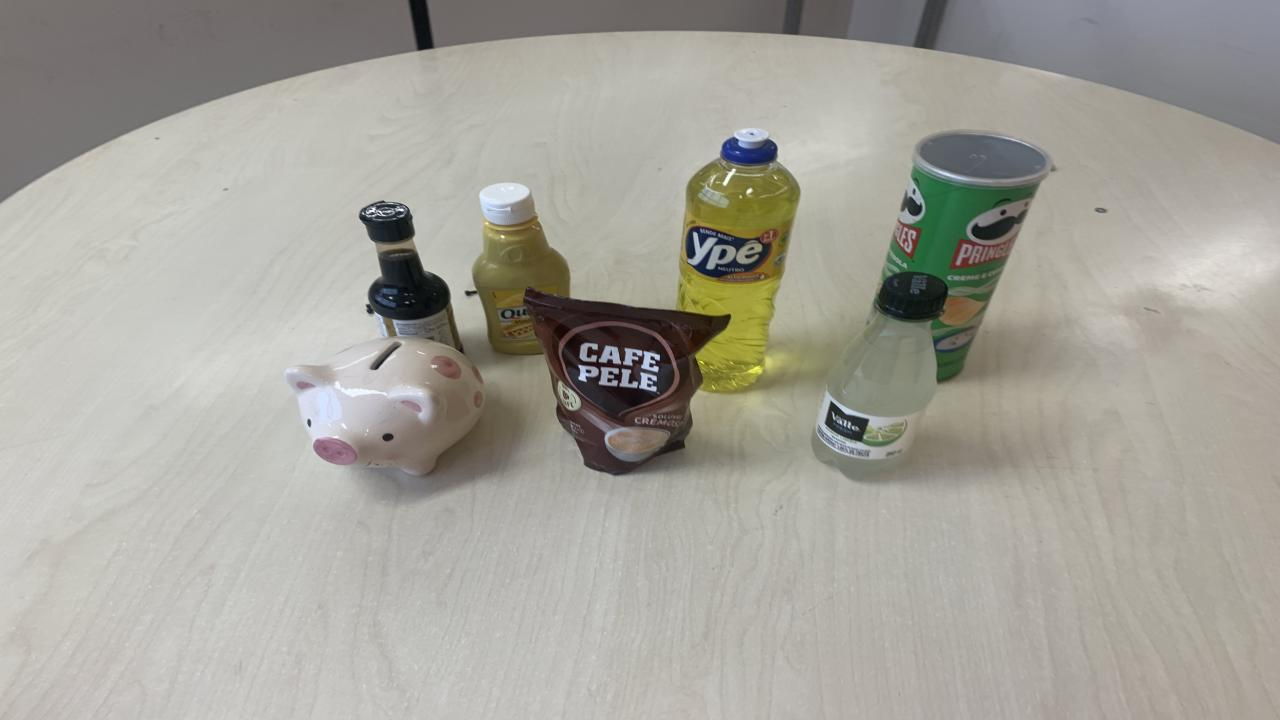Coffee-Pantry_Items: (525, 289, 730, 474)
Detergent-Cleanup_Items: (678, 128, 800, 392)
English_Sauce-Pantry_Items: (360, 201, 462, 351)
Mustard-Pantry_Items: (472, 182, 570, 354)
Pig_Safe-Miscellaneous: (285, 338, 485, 474)
Pringles-Snacks: (882, 129, 1052, 381)
Soda-Drinks: (812, 272, 948, 480)
